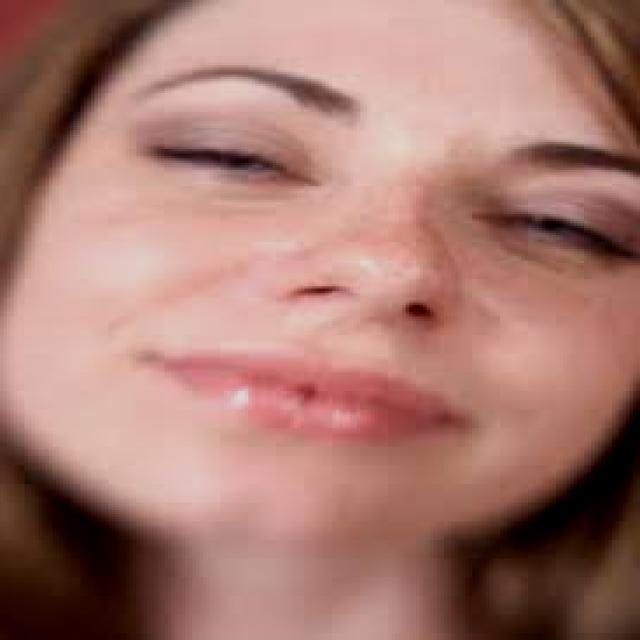normal_face: (16, 0, 636, 563)
